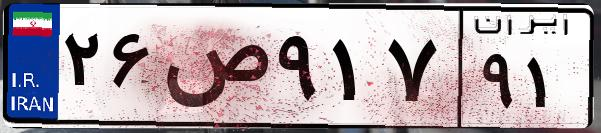1: (330, 28, 385, 110), (525, 38, 570, 115)
2: (57, 26, 110, 100)
6: (110, 28, 158, 98)
7: (385, 28, 445, 110)
9: (270, 28, 330, 110), (475, 38, 525, 113)
ص: (158, 20, 270, 120)
